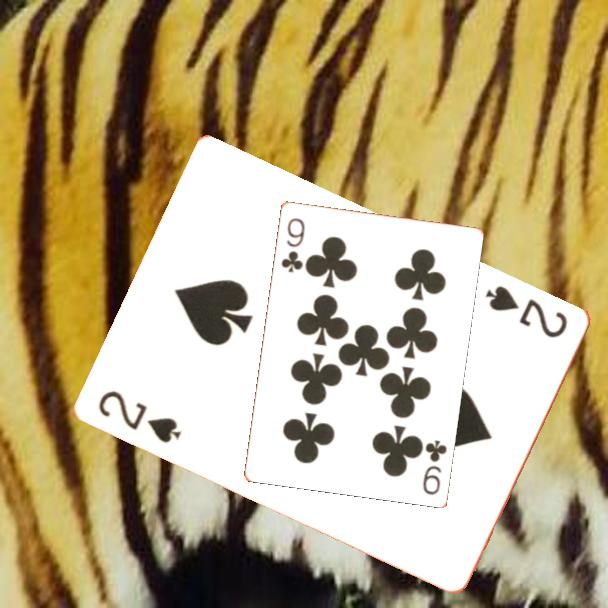c09: (277, 214, 307, 275), (419, 436, 449, 497)
s02: (95, 386, 185, 446), (482, 281, 571, 341)
